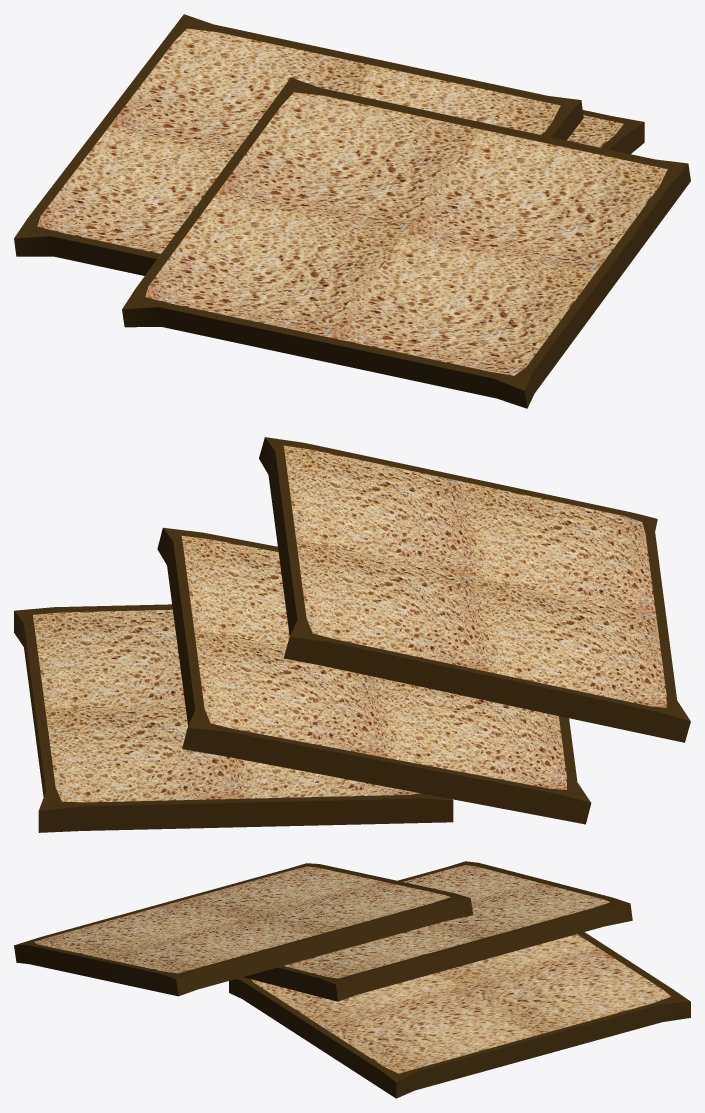
The model's file is Bread slices.fbx.
The picture shows the model from 3 angles, top to bottom: view 1: azimuth 30°, elevation 25°; view 2: azimuth 150°, elevation 25°; view 3: azimuth 270°, elevation 25°; orthographic projection. The views are drawn at different scales.
Visible parts, largest first — view 1: Bread_slice_2; view 2: Bread_slice_2; view 3: Bread_slice_2.
Boxes of the visible parts, x1,y1,x2,y2 form: Bread_slice_2: [14, 14, 690, 408]; Bread_slice_2: [14, 437, 690, 832]; Bread_slice_2: [14, 861, 690, 1098].
Bounding box in the file's own units: 16.89 × 3.04 × 21.44.
Materials: 2 (1 with a texture image).
